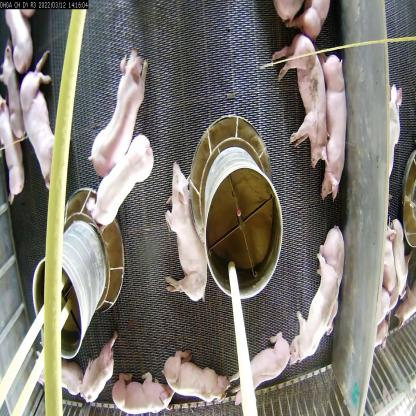Pig: (83, 44, 147, 175), (80, 128, 161, 231), (270, 30, 328, 173), (290, 226, 349, 366), (161, 157, 210, 311), (309, 44, 351, 206), (20, 50, 58, 184), (230, 330, 286, 403), (72, 323, 122, 404), (163, 349, 225, 414), (114, 355, 170, 415), (0, 82, 25, 205), (3, 59, 26, 156)
